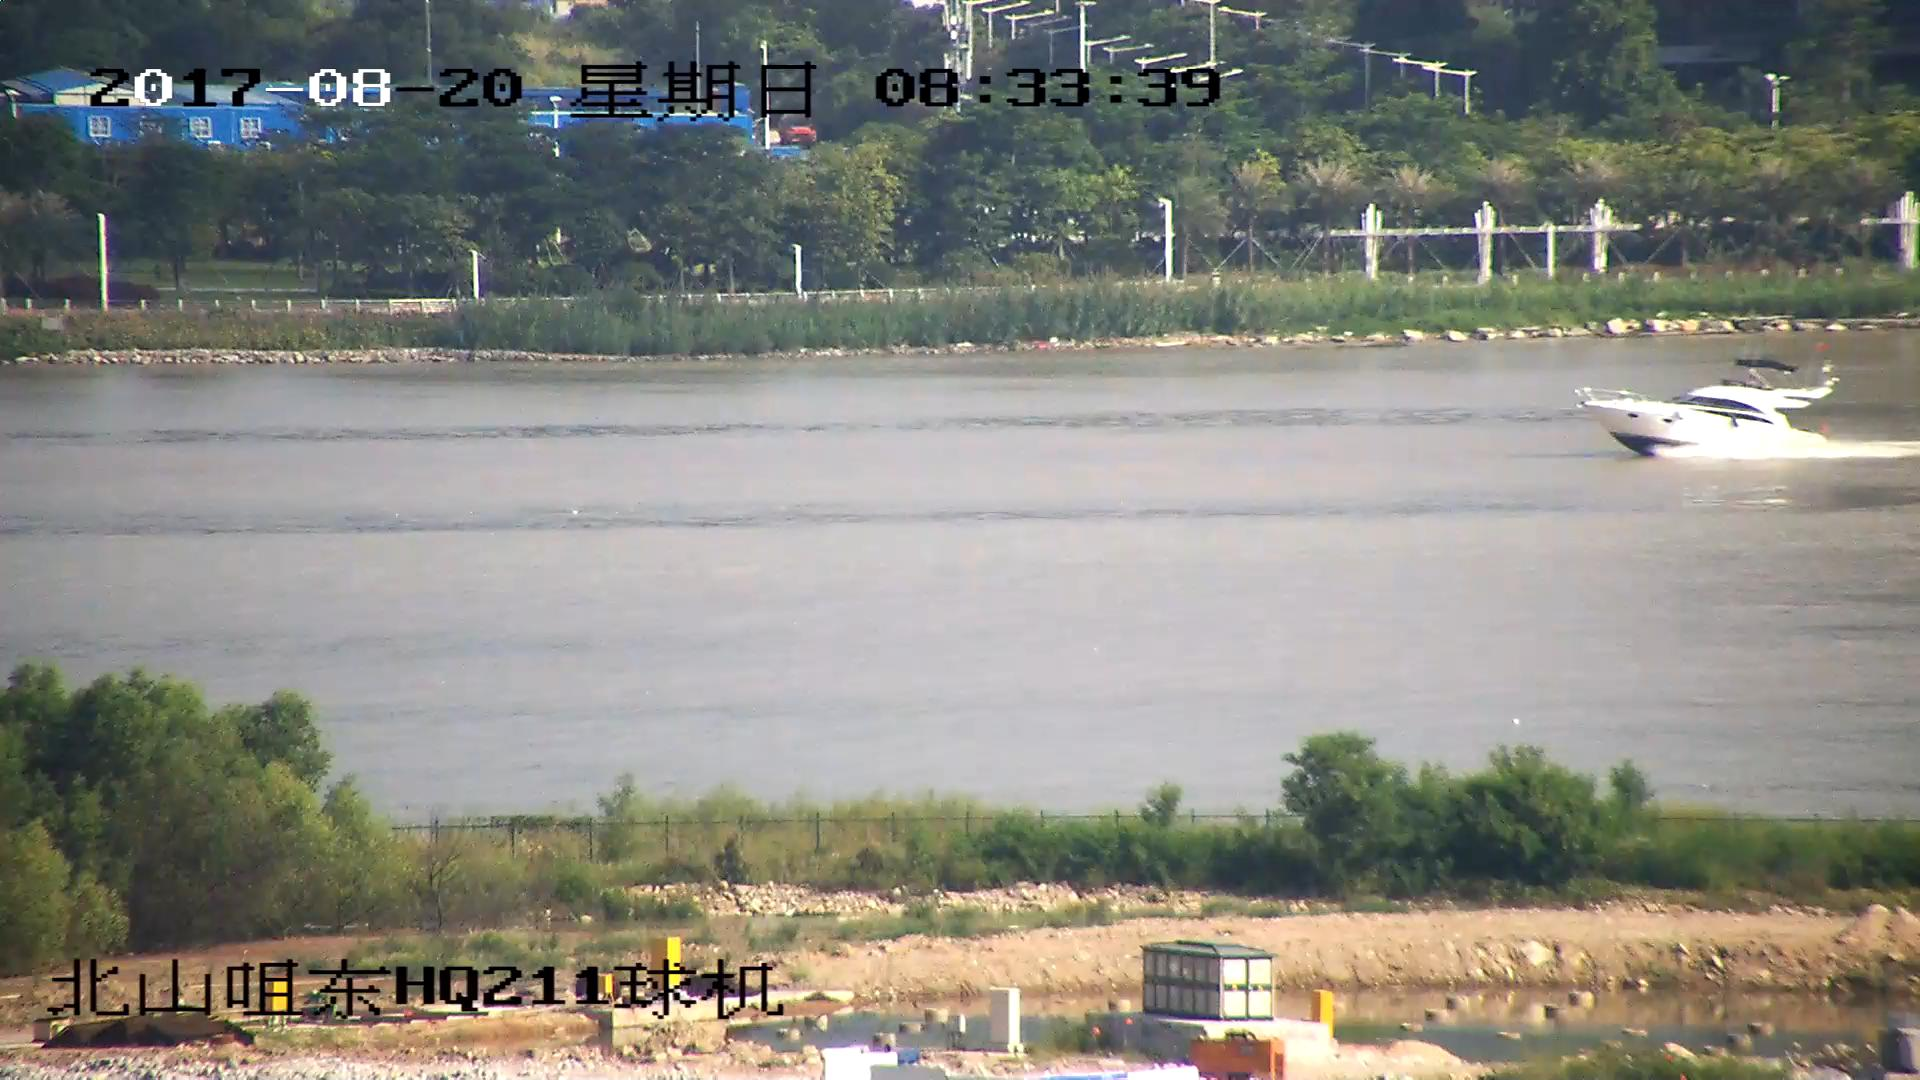passenger ship: (1578, 354, 1844, 456)
